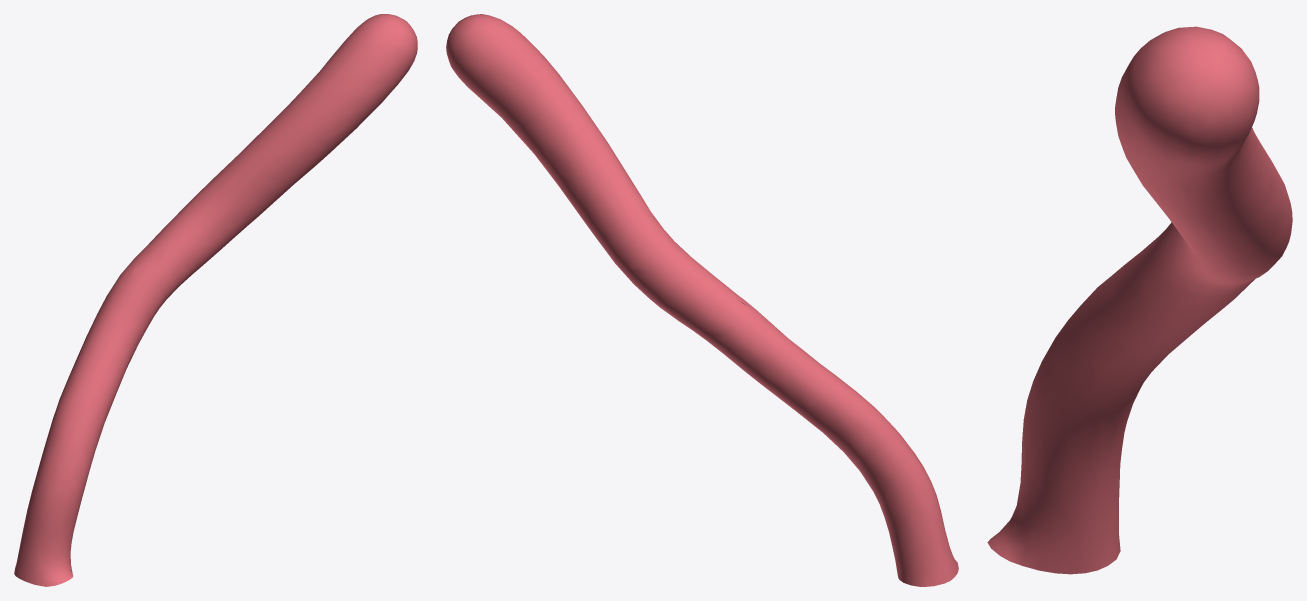
File: fma51240_mm3626m.glb
The picture shows the model from 3 angles, left to right: view 1: azimuth 30°, elevation 25°; view 2: azimuth 150°, elevation 25°; view 3: azimuth 270°, elevation 25°; orthographic projection. The views are drawn at different scales.
Visible parts, largest first — view 1: FMA51240_MM3626M; view 2: FMA51240_MM3626M; view 3: FMA51240_MM3626M.
Part boxes in pixels (x1=…): FMA51240_MM3626M: x1=14, y1=14, x2=417, y2=586; FMA51240_MM3626M: x1=446, y1=14, x2=958, y2=586; FMA51240_MM3626M: x1=987, y1=26, x2=1292, y2=574.
Size of the model in its own units: 0.0642 by 0.0635 by 0.0198.
